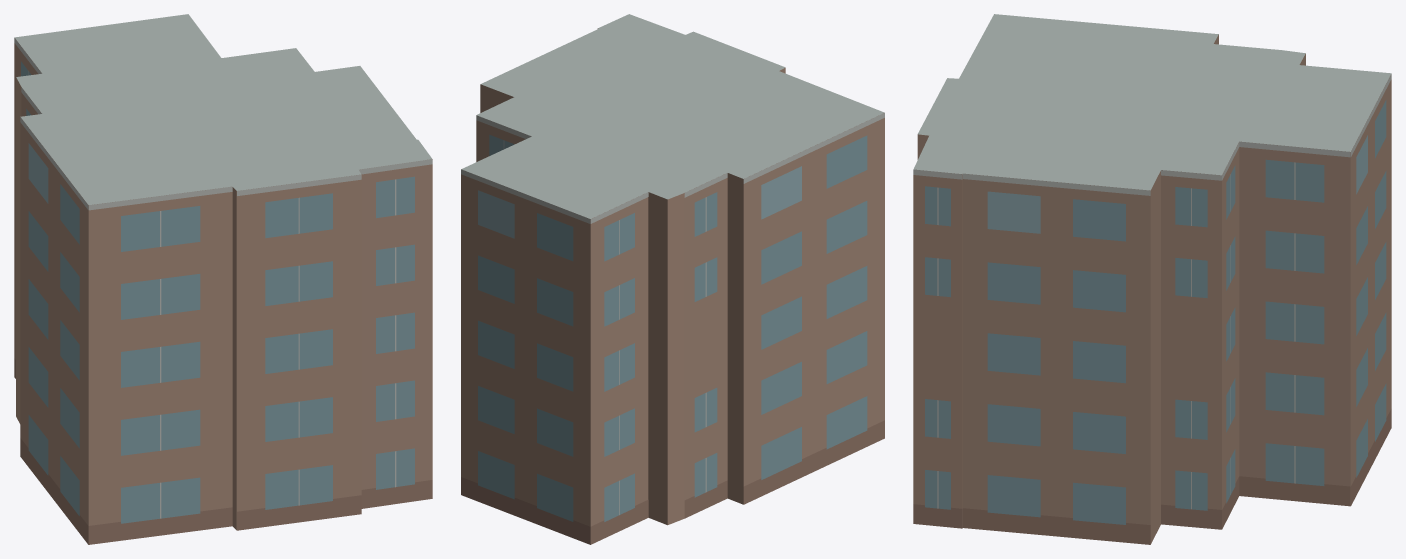
File: survey-upis-32970510.glb
3 views of the same model, side by side, from view 1: azimuth 30°, elevation 25°; view 2: azimuth 150°, elevation 25°; view 3: azimuth 270°, elevation 25° (orthographic). The views are drawn at different scales.
Parts seen in each view (by area): view 1: survey-upis-32970510.tmp; view 2: survey-upis-32970510.tmp; view 3: survey-upis-32970510.tmp.
Part boxes in pixels (x1=…): survey-upis-32970510.tmp: x1=14, y1=14, x2=432, y2=544; survey-upis-32970510.tmp: x1=461, y1=14, x2=884, y2=544; survey-upis-32970510.tmp: x1=913, y1=14, x2=1391, y2=544.
Size of the model in its own units: 16.89 by 15.8 by 19.34.
